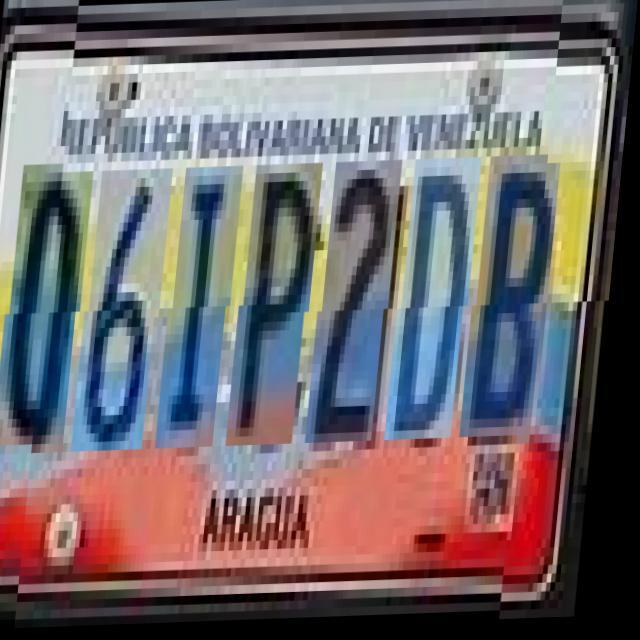2: (318, 164, 406, 446)
6: (85, 170, 176, 452)
B: (473, 158, 565, 441)
D: (398, 161, 485, 443)
I: (168, 168, 247, 450)
O: (5, 172, 97, 455)
P: (240, 165, 326, 448)
